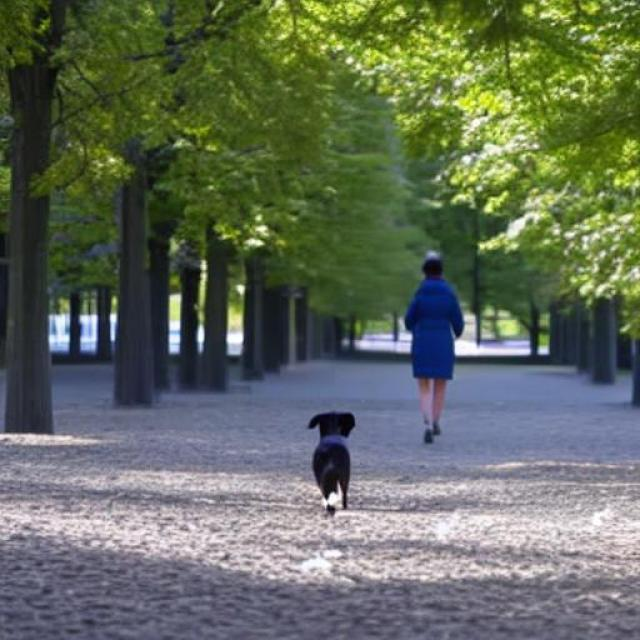Unleashed_Dog: (307, 332, 453, 517)
